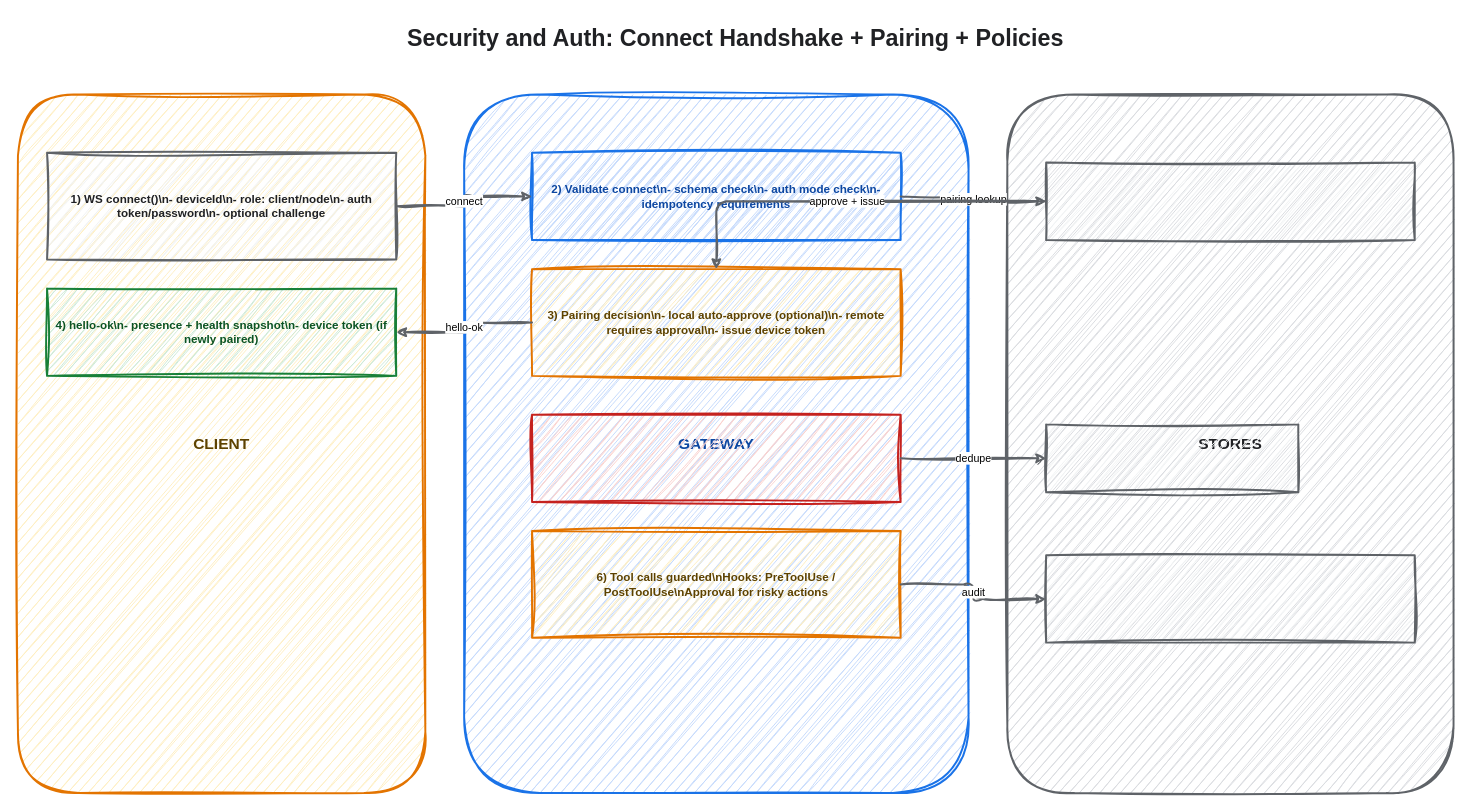
The diagram is 1471 pixels wide and 810 high, and some of its shapes have lost their labels. Each missing label, with the centre of its shape:
5) Side-effecting requests\n(send / agent / node.*)\nrequire idempotency keys: [716,457]
Dedupe cache\n(short-lived): [1172,458]
Device pairing store\n- approved device IDs\n- issued device tokens: [1230,201]
Logs / audit\n- tool events\n- errors\n- approvals: [1230,598]
